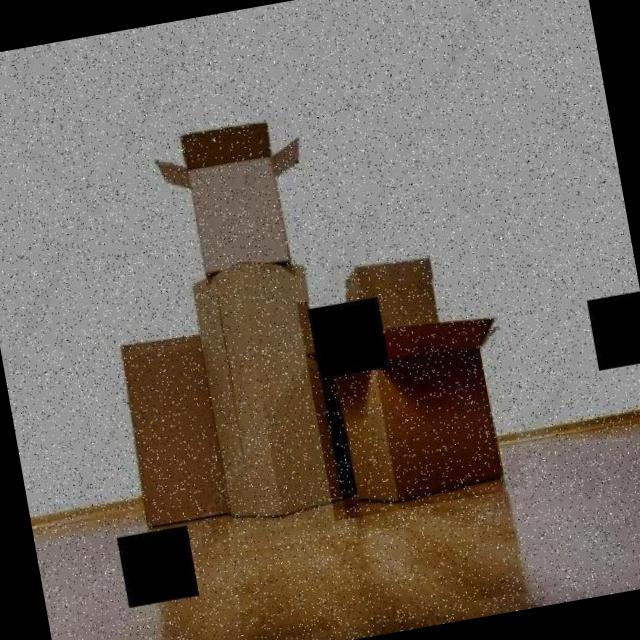box: (297, 270, 526, 520), (184, 254, 358, 554), (148, 104, 334, 286), (110, 323, 233, 540), (343, 248, 463, 365)
